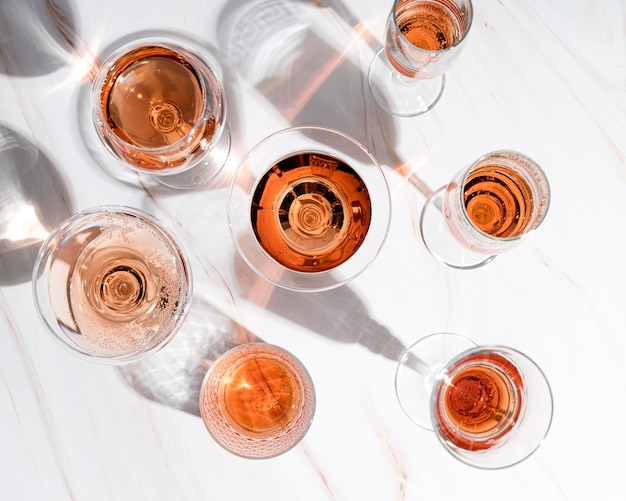alcohol: (226, 125, 396, 296), (29, 209, 195, 363), (88, 34, 234, 189), (394, 331, 553, 469), (418, 130, 553, 274), (201, 344, 321, 458), (363, 0, 475, 117)
